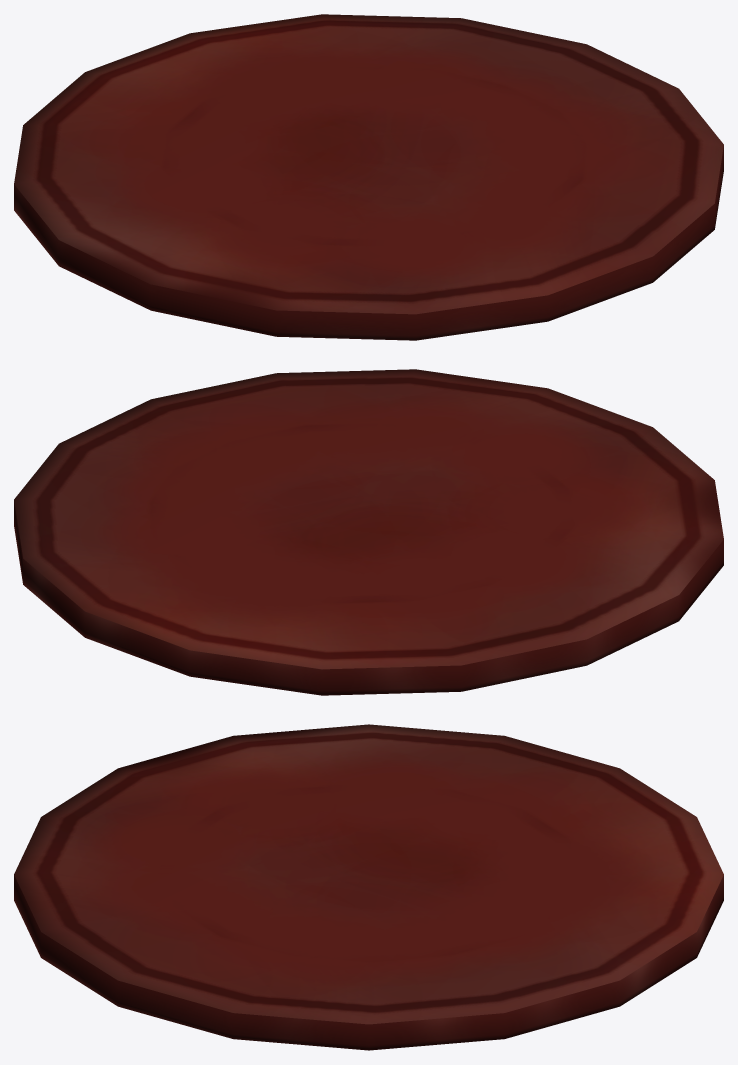
File: spring_bottom.glb
The picture shows the model from 3 angles, top to bottom: view 1: azimuth 30°, elevation 25°; view 2: azimuth 150°, elevation 25°; view 3: azimuth 270°, elevation 25°; orthographic projection.
Parts seen in each view (by area): view 1: Bottom; view 2: Bottom; view 3: Bottom.
Boxes of the visible parts, left/top/right/bottom form: Bottom: left=14, top=14, right=723, bottom=340; Bottom: left=14, top=369, right=723, bottom=695; Bottom: left=14, top=724, right=723, bottom=1050.
Size of the model in its own units: 1.66 by 0.084 by 1.66.
Materials: 1 (1 with a texture image).
